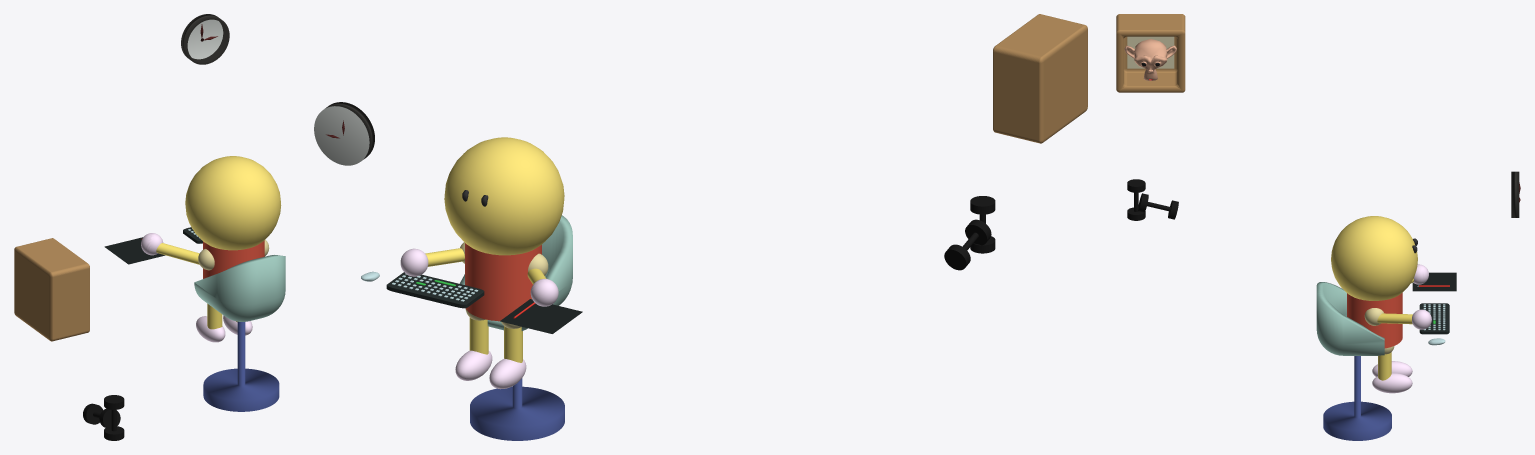
Rendered from portroom.gltf.
3 renders of one model, left to right at view 1: azimuth 30°, elevation 25°; view 2: azimuth 150°, elevation 25°; view 3: azimuth 270°, elevation 25°, orthographic. The views are drawn at different scales.
Visible parts, largest first — view 1: Sphere.008, Cube.018, Cube.015, Cylinder, Cylinder.002, Cylinder.010, Plane, Cylinder.004, Cylinder.005; view 2: Sphere.008, Cube.018, Cylinder, Cylinder.002, Cube.015, Cube.013, Plane, Cylinder.005, Cylinder.010, Cylinder.004; view 3: Sphere.008, Cube.018, Cube.015, Cylinder, Suzanne, Cube.013, Plane, Cylinder.004, Cylinder.005, Cylinder.002.
Part boxes in pixels (<box>): Sphere.008: <box>185,156,281,342</box>; Cube.018: <box>14,238,89,341</box>; Cube.015: <box>194,255,285,321</box>; Cylinder: <box>203,321,279,411</box>; Cylinder.002: <box>181,14,229,64</box>; Cylinder.010: <box>141,233,199,264</box>; Plane: <box>104,237,165,264</box>; Cylinder.004: <box>104,395,124,440</box>; Cylinder.005: <box>83,403,120,428</box>; Sphere.008: <box>400,137,564,389</box>; Cube.018: <box>993,14,1087,143</box>; Cylinder: <box>470,378,564,440</box>; Cylinder.002: <box>314,102,374,165</box>; Cube.015: <box>459,215,572,330</box>; Cube.013: <box>386,272,484,308</box>; Plane: <box>500,299,582,333</box>; Cylinder.005: <box>944,219,991,270</box>; Cylinder.010: <box>527,268,558,306</box>; Cylinder.004: <box>970,196,995,253</box>; Sphere.008: <box>1331,216,1431,393</box>; Cube.018: <box>1116,14,1185,92</box>; Cube.015: <box>1316,282,1384,355</box>; Cylinder: <box>1323,356,1391,440</box>; Suzanne: <box>1124,39,1176,80</box>; Cube.013: <box>1419,303,1449,334</box>; Plane: <box>1412,272,1456,291</box>; Cylinder.004: <box>1127,179,1145,220</box>; Cylinder.005: <box>1138,193,1178,219</box>; Cylinder.002: <box>1511,171,1519,217</box>.
Size of the model in its own units: 6.49 by 4.69 by 6.25.
